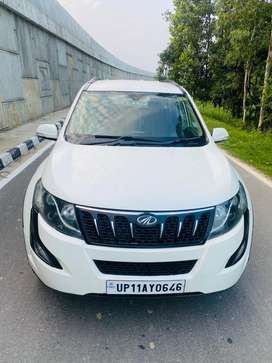UP11AY0646: (106, 280, 186, 294)
